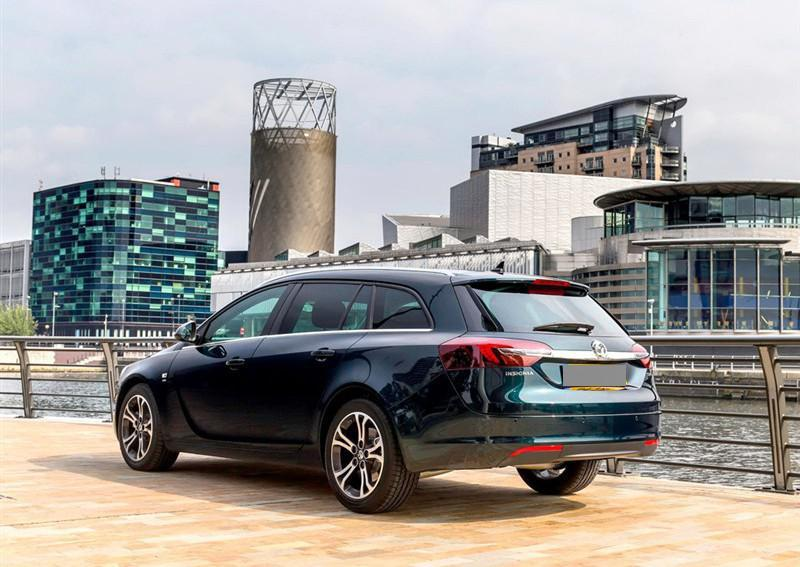Wagon: (112, 262, 662, 514)
